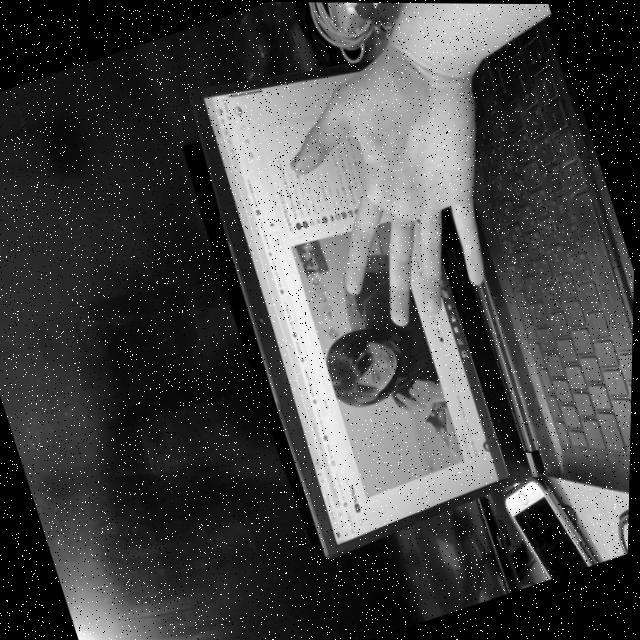no-gloves: (229, 2, 551, 364)
